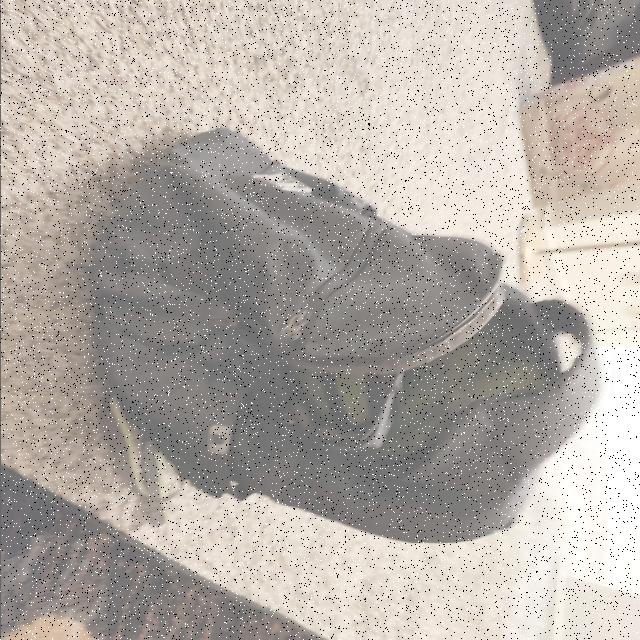bag: (126, 139, 594, 515)
